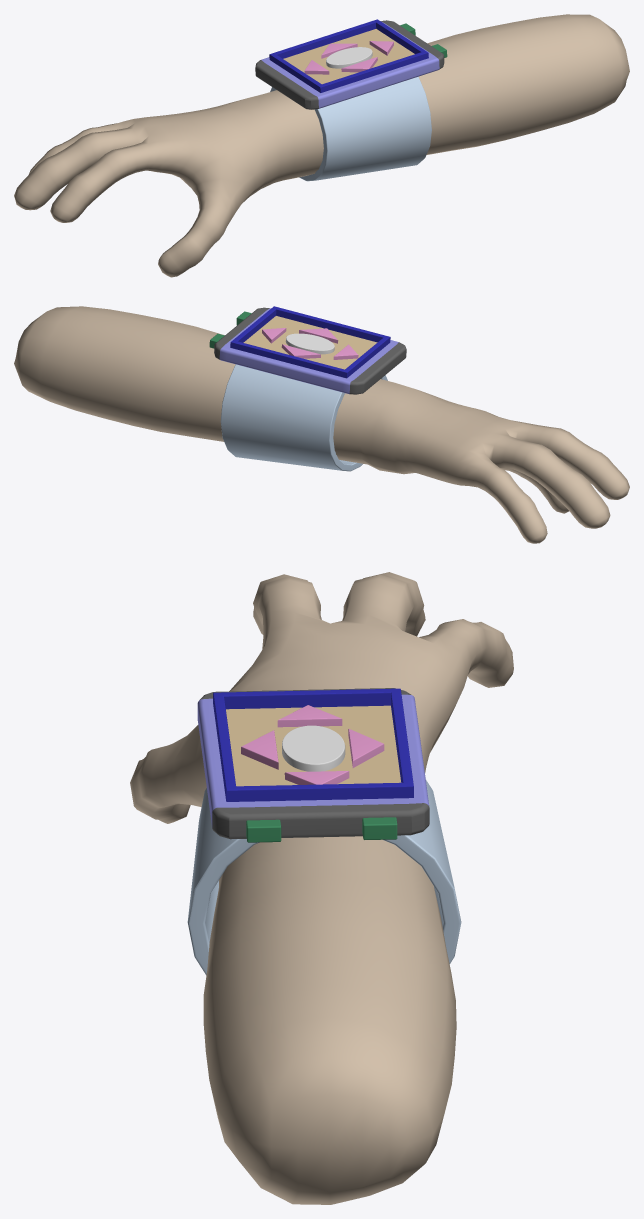
Rendered from Packboy21.fbx.
The picture shows the model from 3 angles, top to bottom: view 1: azimuth 30°, elevation 25°; view 2: azimuth 150°, elevation 25°; view 3: azimuth 270°, elevation 25°; orthographic projection. The views are drawn at different scales.
Visible parts, largest first — view 1: AnatomyHandAlien:alienhand, wristband, packboy2, stopbutton; view 2: AnatomyHandAlien:alienhand, wristband, packboy2, stopbutton; view 3: AnatomyHandAlien:alienhand, packboy2, wristband, stopbutton, rightbutton, upbutton.
Part boxes in pixels (left/top/right/bottom): AnatomyHandAlien:alienhand: left=14, top=14, right=629, bottom=277; wristband: left=270, top=76, right=431, bottom=181; packboy2: left=255, top=19, right=444, bottom=109; stopbutton: left=326, top=47, right=372, bottom=68; AnatomyHandAlien:alienhand: left=14, top=306, right=629, bottom=543; wristband: left=220, top=364, right=387, bottom=471; packboy2: left=214, top=306, right=406, bottom=394; stopbutton: left=285, top=333, right=334, bottom=354; AnatomyHandAlien:alienhand: left=130, top=572, right=513, bottom=1204; packboy2: left=197, top=688, right=429, bottom=839; wristband: left=187, top=779, right=461, bottom=975; stopbutton: left=282, top=725, right=345, bottom=771; rightbutton: left=277, top=705, right=342, bottom=727; upbutton: left=241, top=730, right=278, bottom=769.
Bounding box in the file's own units: 61.68 × 14.85 × 17.51.
